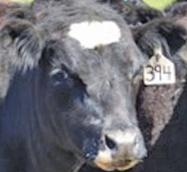muzzles: (90, 127, 149, 171)
